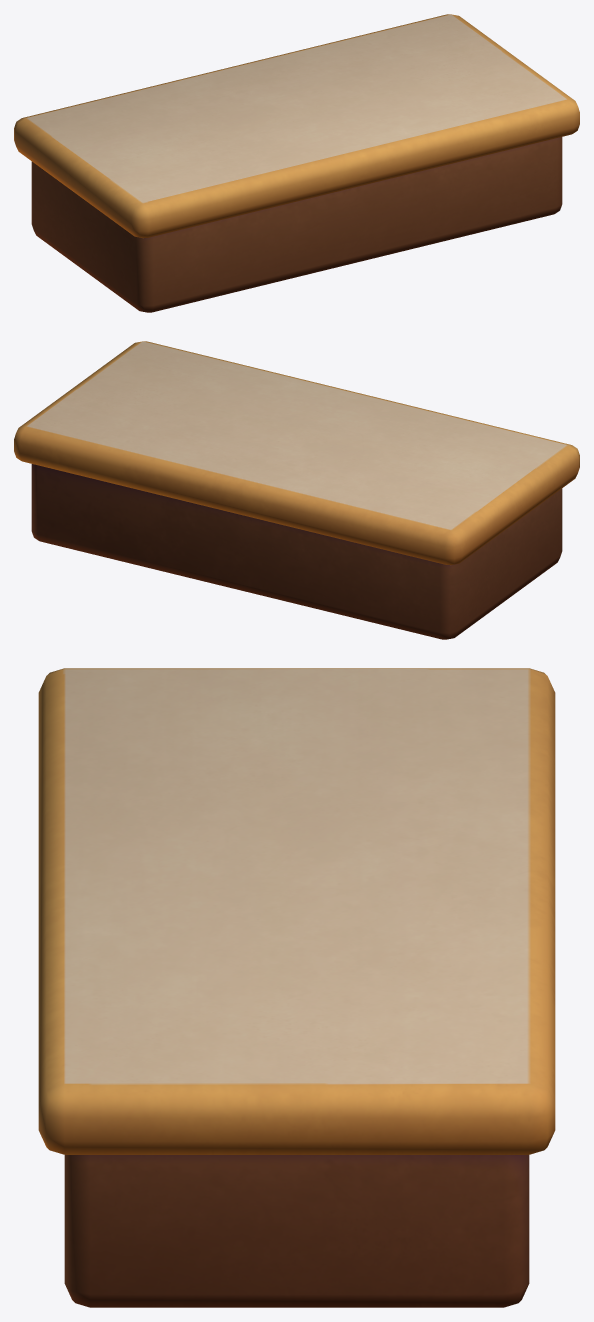
File: bigtable.obj
3 renders of one model, top to bottom at view 1: azimuth 30°, elevation 25°; view 2: azimuth 150°, elevation 25°; view 3: azimuth 270°, elevation 25°, orthographic. The views are drawn at different scales.
Visible parts, largest first — view 1: DeliveryCounter.Base; view 2: DeliveryCounter.Base; view 3: DeliveryCounter.Base.
Part boxes in pixels (bbox=[...]): DeliveryCounter.Base: bbox=[14, 14, 579, 312]; DeliveryCounter.Base: bbox=[14, 341, 579, 639]; DeliveryCounter.Base: bbox=[38, 668, 555, 1307].
Bounding box in the file's own units: 2.73 × 0.6826 × 1.37.
